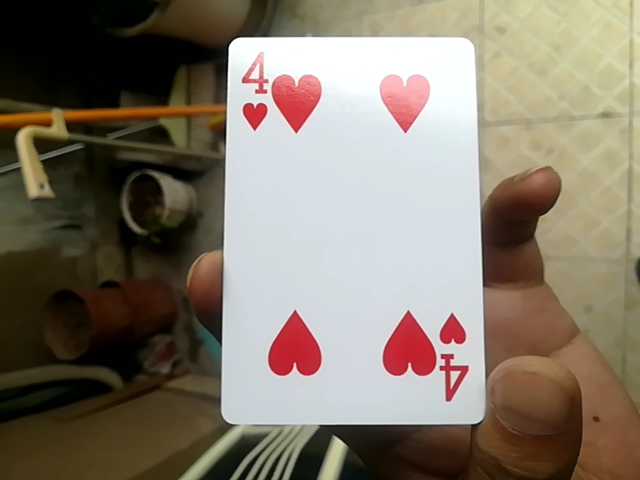hx 4: (216, 39, 491, 426)
